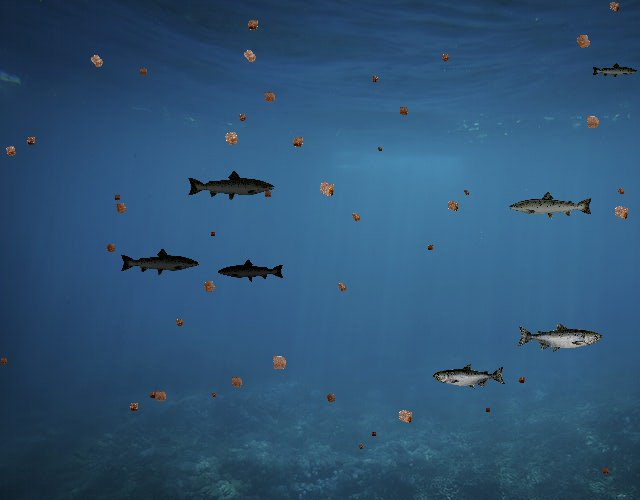Fish: (187, 169, 277, 202), (508, 190, 594, 221), (516, 322, 602, 353), (120, 247, 201, 276), (433, 363, 506, 389), (218, 258, 286, 282), (592, 63, 639, 80)
Pellet: (0, 140, 22, 162), (242, 14, 264, 36), (346, 208, 365, 227), (394, 102, 412, 120), (424, 241, 437, 254), (111, 191, 123, 203), (208, 390, 218, 400)
